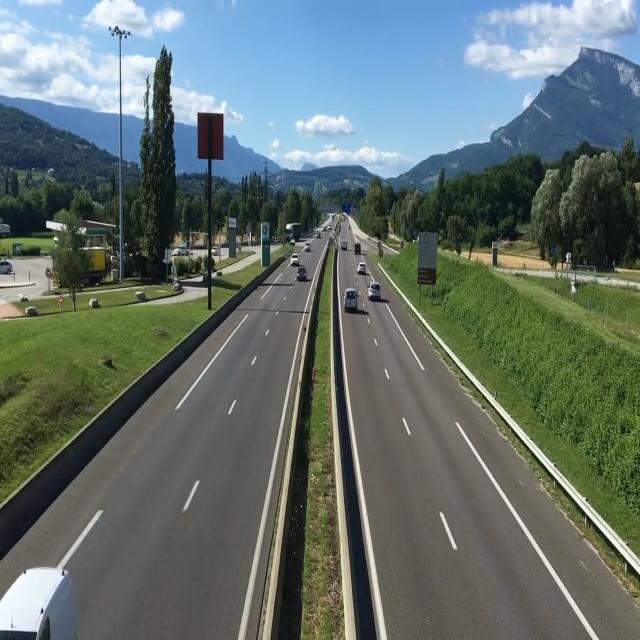car: (0, 561, 74, 640), (344, 280, 359, 315), (366, 278, 383, 306), (296, 263, 308, 285), (356, 258, 368, 277)
